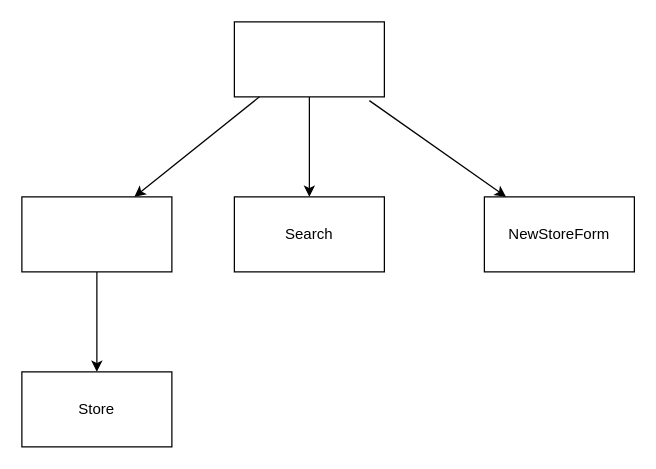
Some shapes in this 656 by 469 pixel diagram are drawn without their labels. The shapes that lost their labels are listed below. From the top down, each one's box as (x1, y1, x2, y2) in pixels, then its label:
(233, 21, 384, 97): App
(21, 196, 172, 272): StoreList
